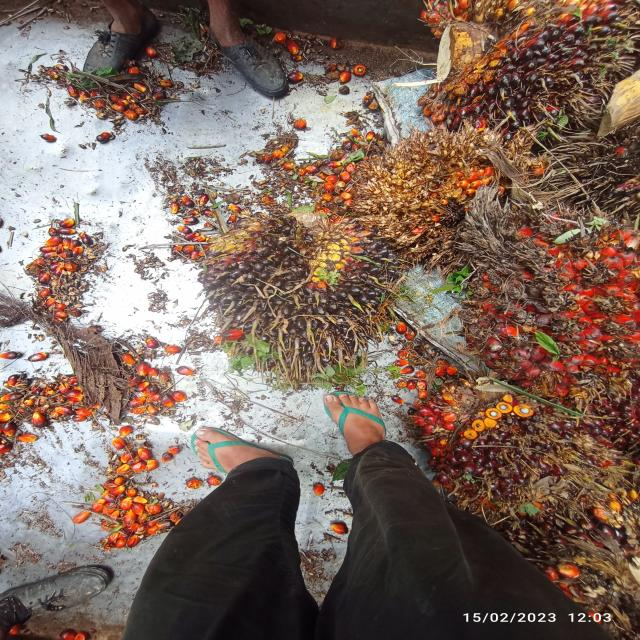fraksi 00: (180, 205, 412, 394)
fraksi 1: (411, 0, 639, 132), (398, 374, 610, 499)
fraksi 3: (456, 196, 640, 409)
fraksi 4: (338, 122, 507, 248)
